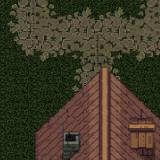Obstacle: (5, 132, 160, 160)
